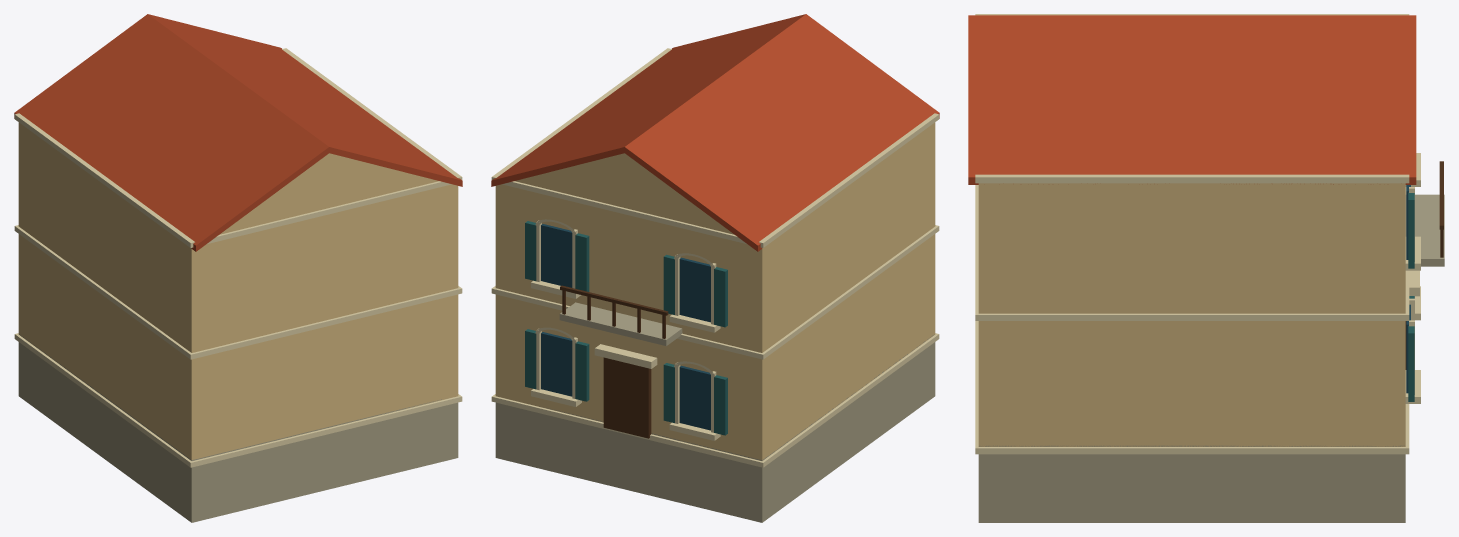
File: townhouse.glb
3 views of the same model, side by side, from view 1: azimuth 30°, elevation 25°; view 2: azimuth 150°, elevation 25°; view 3: azimuth 270°, elevation 25° (orthographic). The views are drawn at different scales.
Parts seen in each view (by area): view 1: House; view 2: House; view 3: House.
Boxes of the visible parts, left/top/right/bottom form: House: left=14, top=14, right=462, bottom=522; House: left=491, top=14, right=939, bottom=522; House: left=968, top=14, right=1444, bottom=522.
Size of the model in its own units: 8.15 by 9.94 by 10.04.
